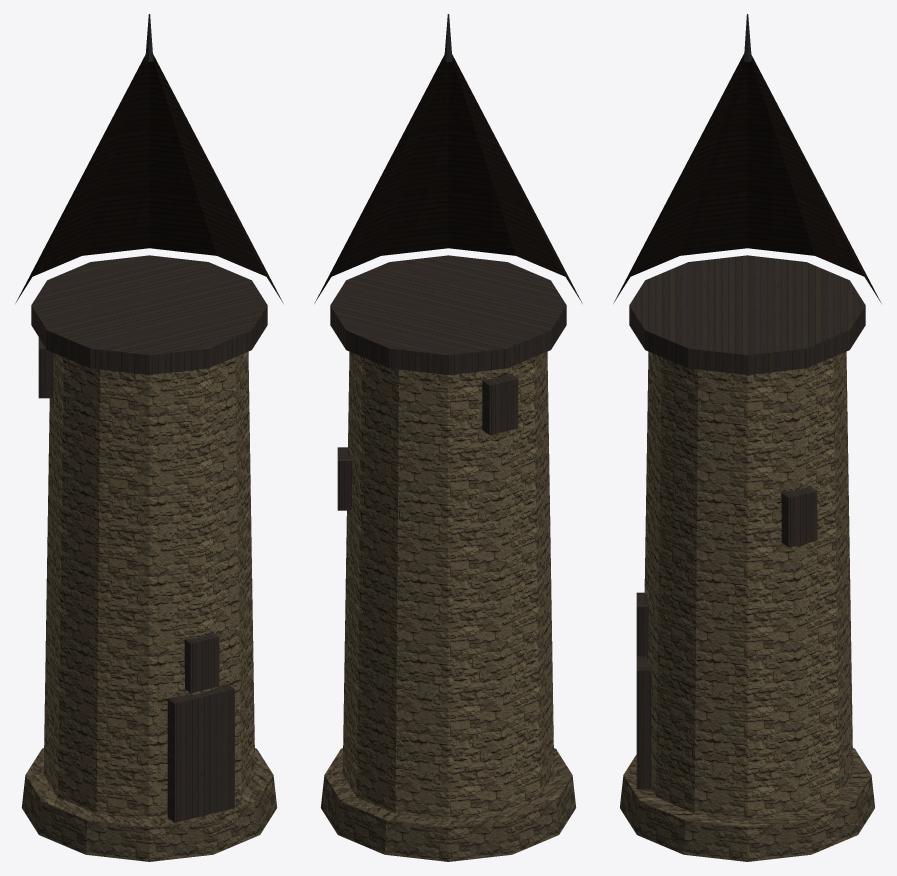
File: tower_pointy_01.glb
3 renders of one model, left to right at view 1: azimuth 30°, elevation 25°; view 2: azimuth 150°, elevation 25°; view 3: azimuth 270°, elevation 25°, orthographic.
Visible parts, largest first — view 1: tower_pointy_01; view 2: tower_pointy_01; view 3: tower_pointy_01.
Part boxes in pixels (box(x1,y1,x2,y2)): tower_pointy_01: box(15, 14, 283, 861); tower_pointy_01: box(314, 14, 582, 861); tower_pointy_01: box(613, 14, 881, 861).
Size of the model in its own units: 3.7 by 12 by 3.7.
Materials: 5 (5 with a texture image).
